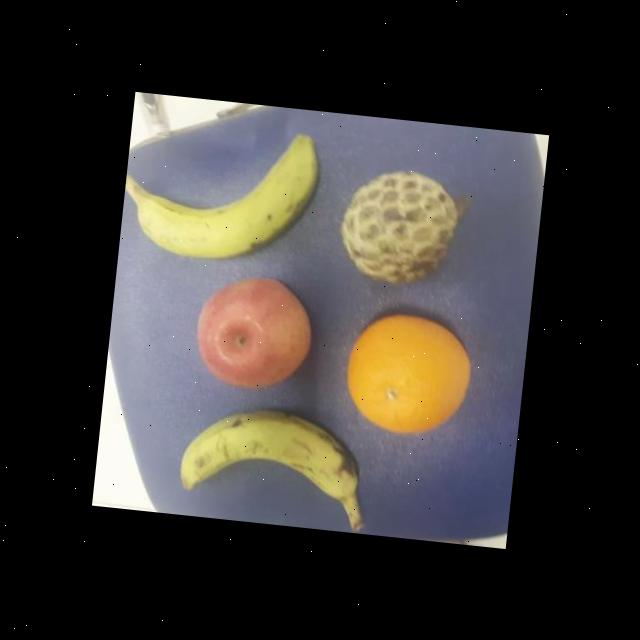Sakya fruit: (329, 160, 475, 292)
apple: (187, 266, 319, 396)
banana: (120, 115, 323, 272), (176, 398, 364, 514)
orange: (337, 306, 478, 441)
